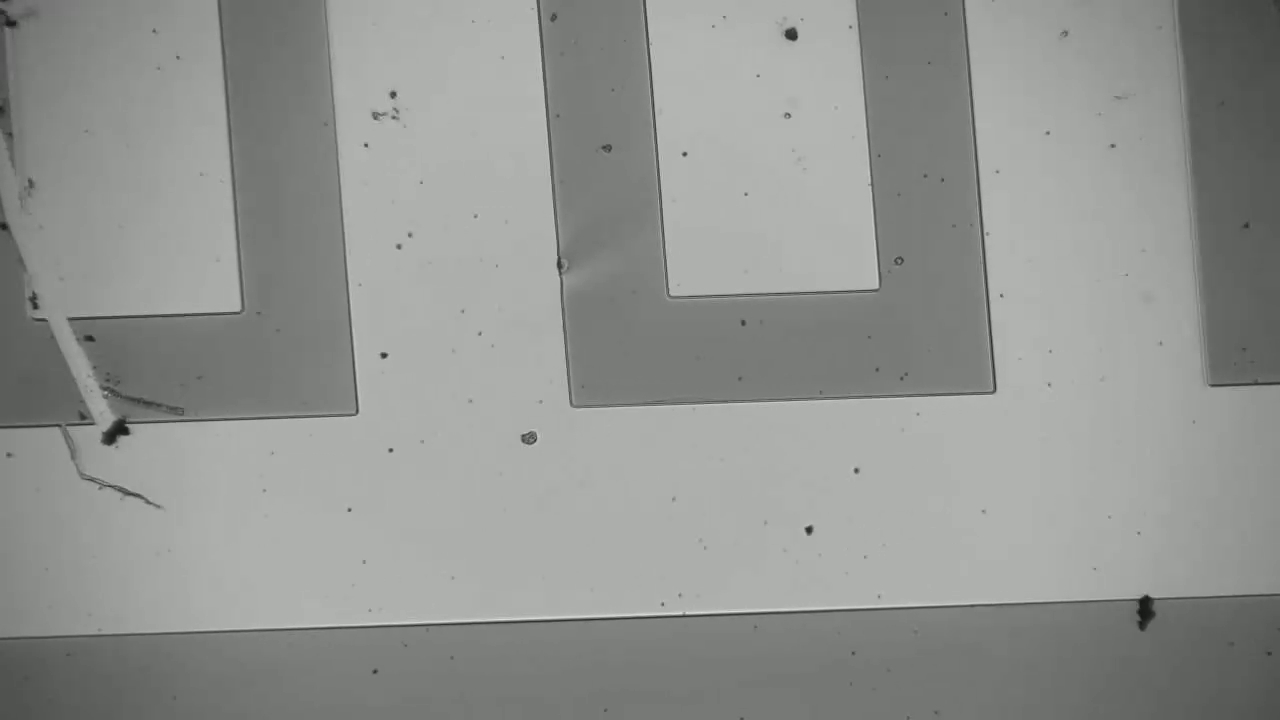Short_circuit: (32, 301, 152, 449)
